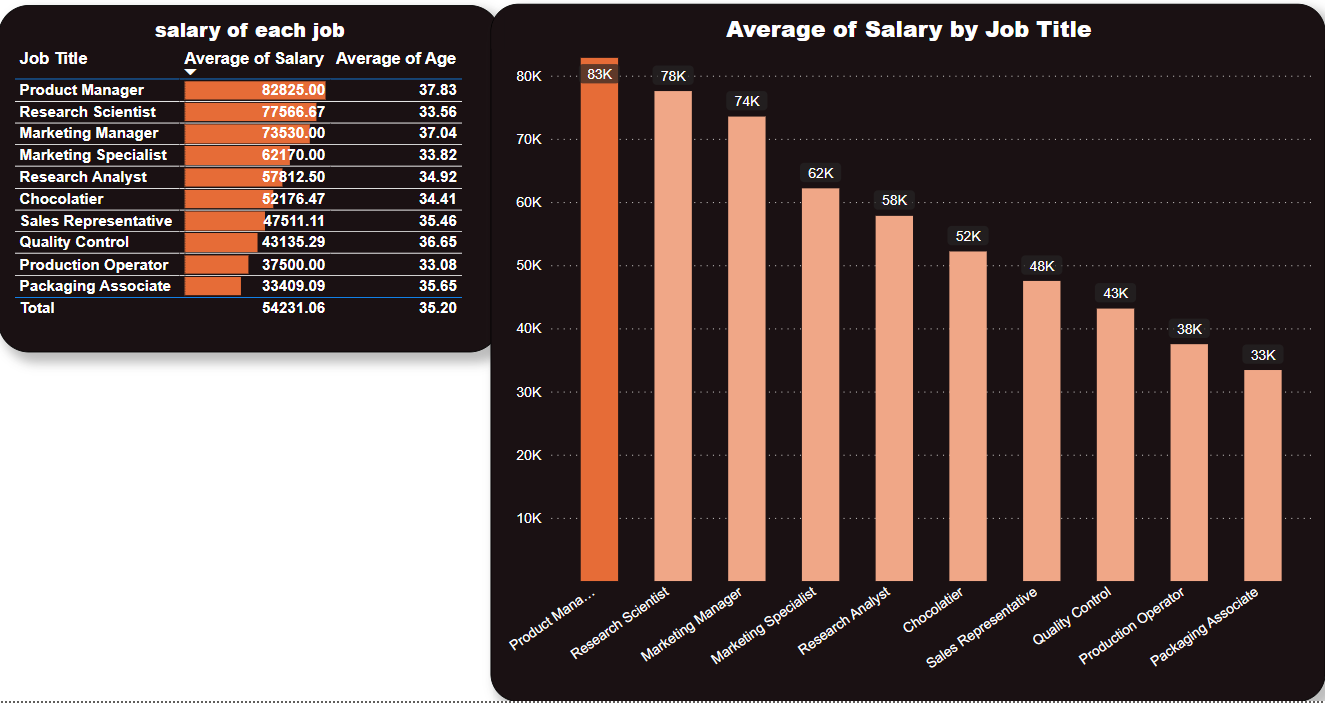

The dashboard page shown, as its layout file describes it:
{"tool":"powerbi","page":{"name":"salary in each job","canvas":[1280,720],"ordinal":3},"visuals":[{"type":"tableEx","title":"salary of each job","fields":{"Values":["data.Job Title","Avg(data.Salary)","Avg(data.Age)"]},"box":[0,47.9,484.6,335.3],"z":0},{"type":"lineStackedColumnComboChart","fields":{"Category":["data.Job Title"],"Y":["Avg(data.Salary)"]},"box":[474.8,46.5,805.8,673.4],"z":1000}]}

Visuals, with their boxes on the page's 1280x720 design canvas (x1, y1, x2, y2). These are canvas units, not pixel positions in the 1325x703 screenshot, which may show the page scaled, cropped or inside an application window:
"salary of each job" tableEx: <bbox>0, 48, 485, 383</bbox>
lineStackedColumnComboChart - data.Job Title x Avg(data.Salary): <bbox>475, 46, 1281, 720</bbox>
